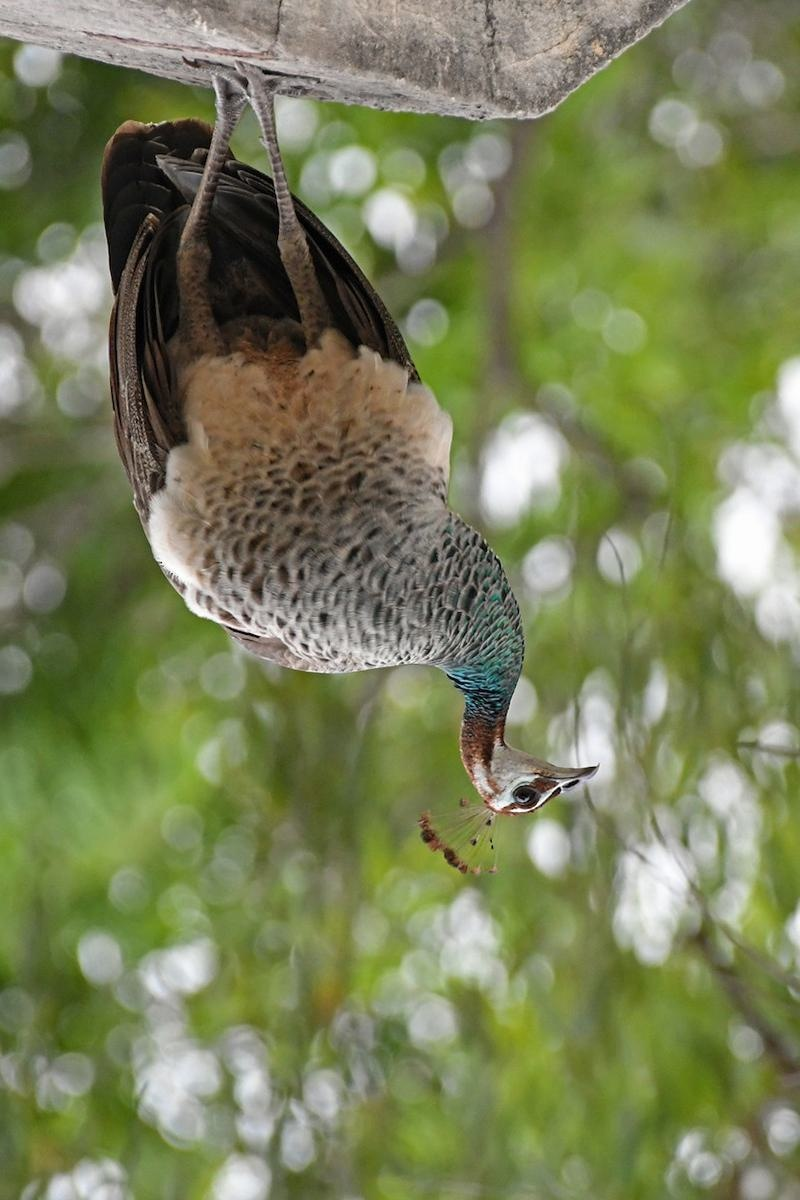peacock: (77, 50, 630, 889)
